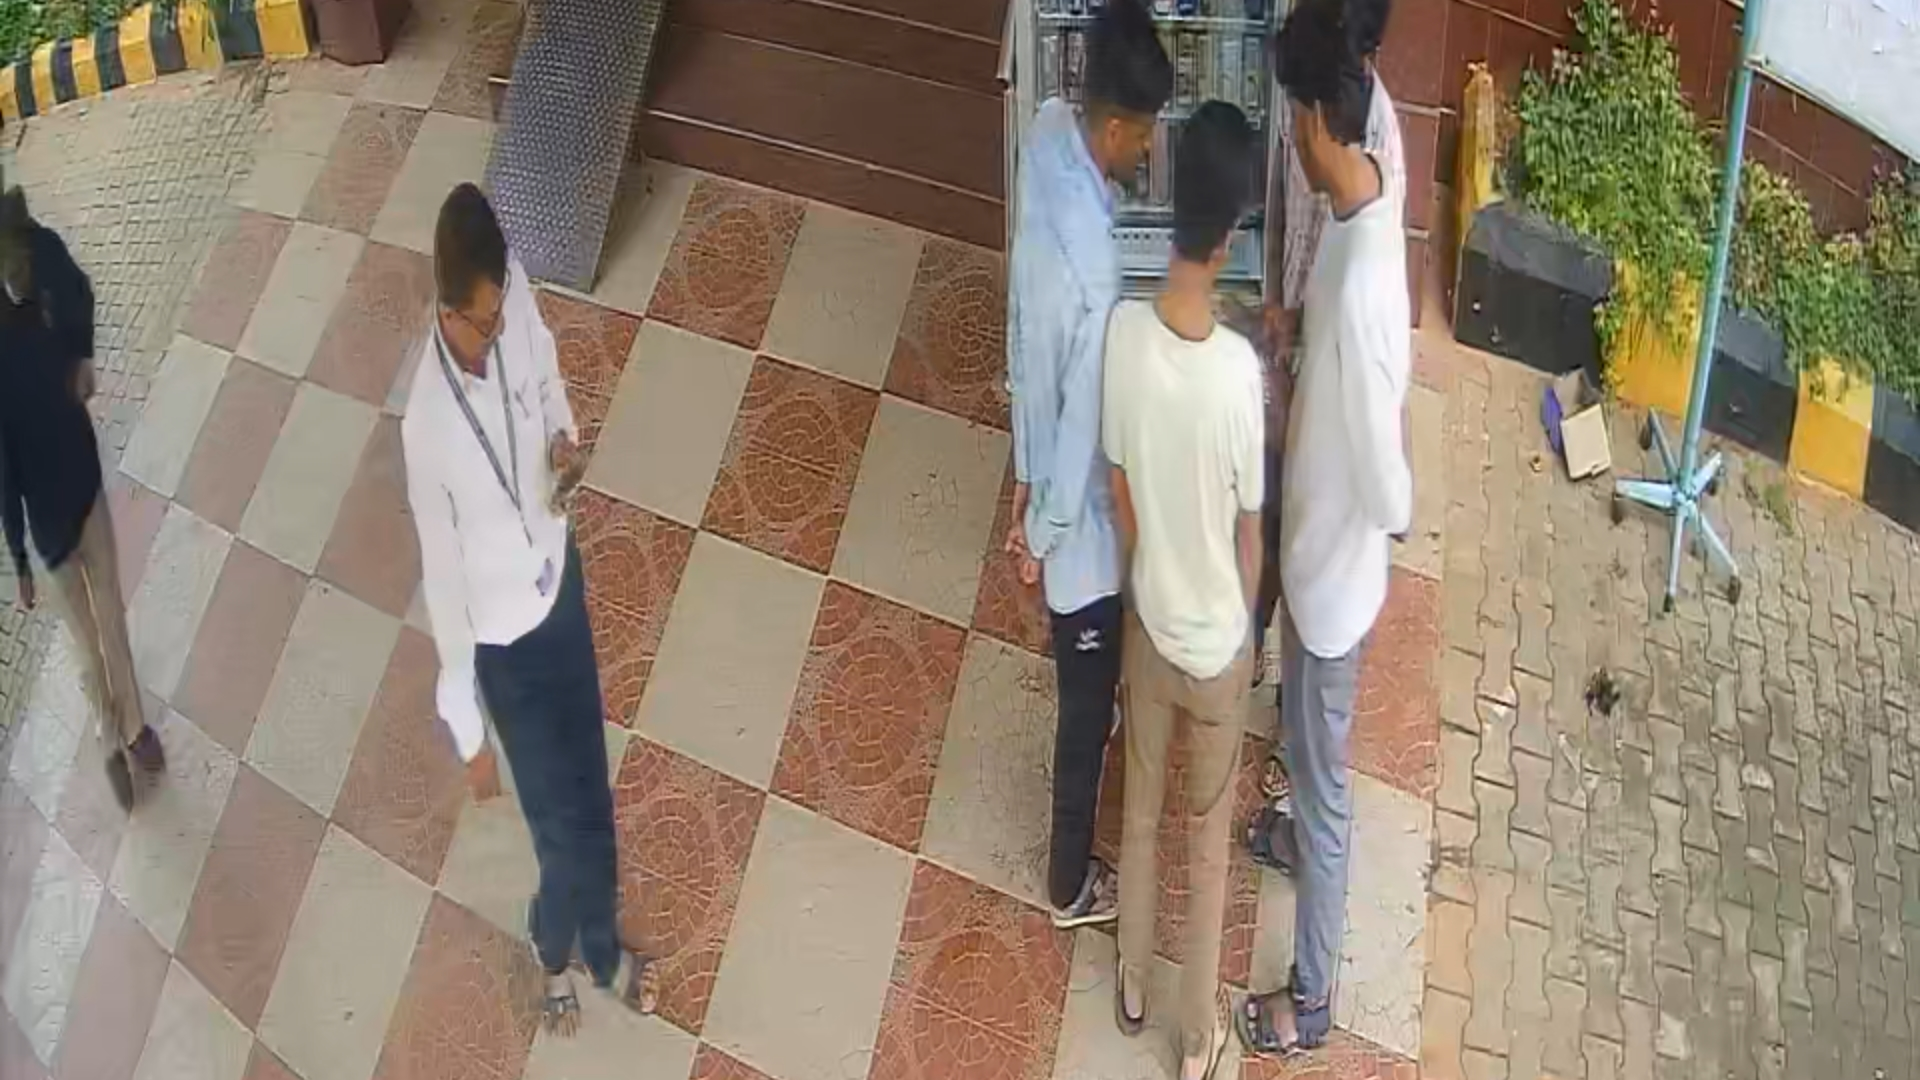not intruder: (404, 165, 712, 1044)
